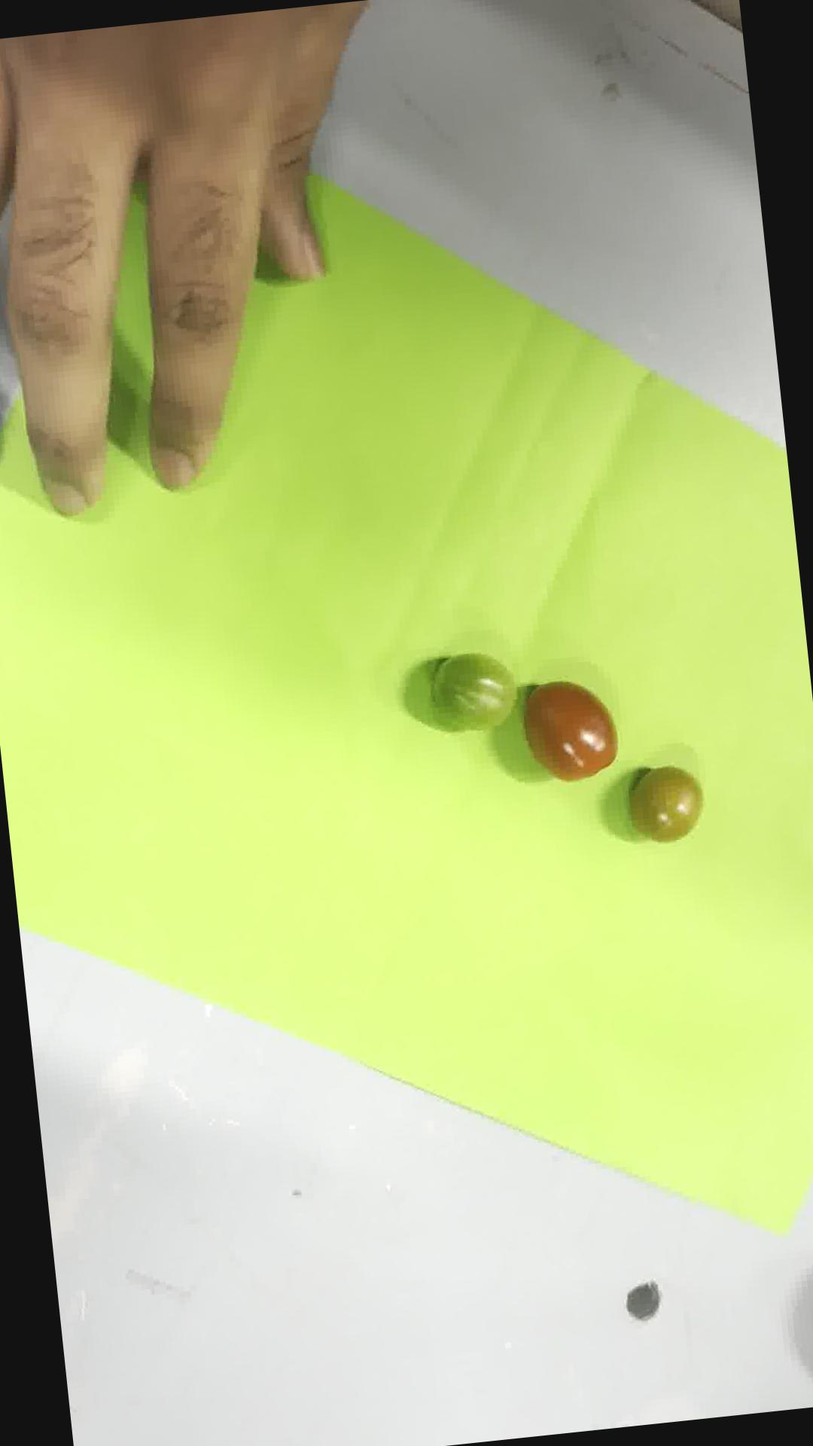green_cherry_tomato: (431, 652, 516, 731)
red_cherry_tomato: (524, 681, 617, 781)
yellow_cherry_tomato: (630, 766, 703, 842)
